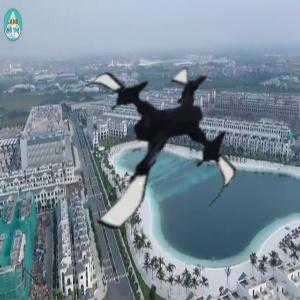drone: (56, 52, 245, 241)
